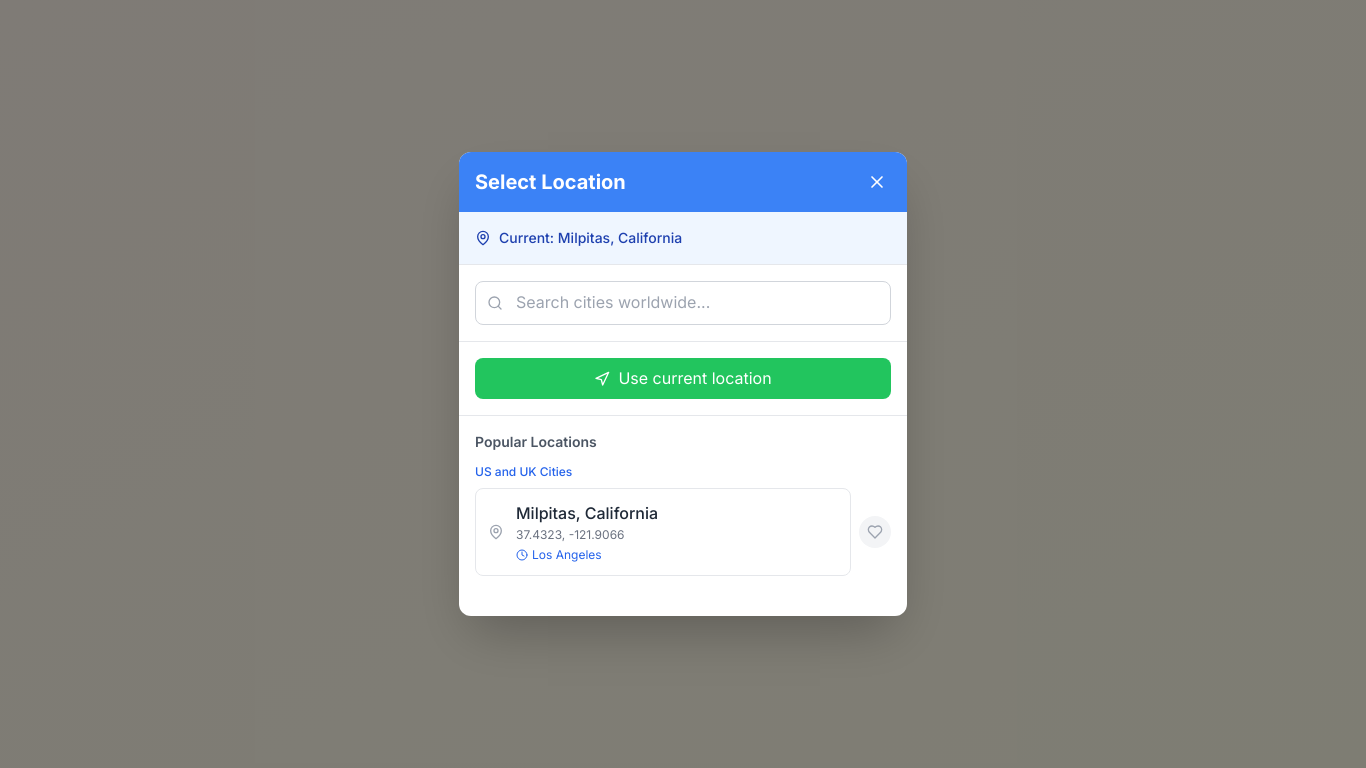
Scenario: LocationSelector › shows empty search results without logging failed searches
In the field with placeholder "Search cities worldwide...": (683, 303) [475,281,891,325], type "Paris"
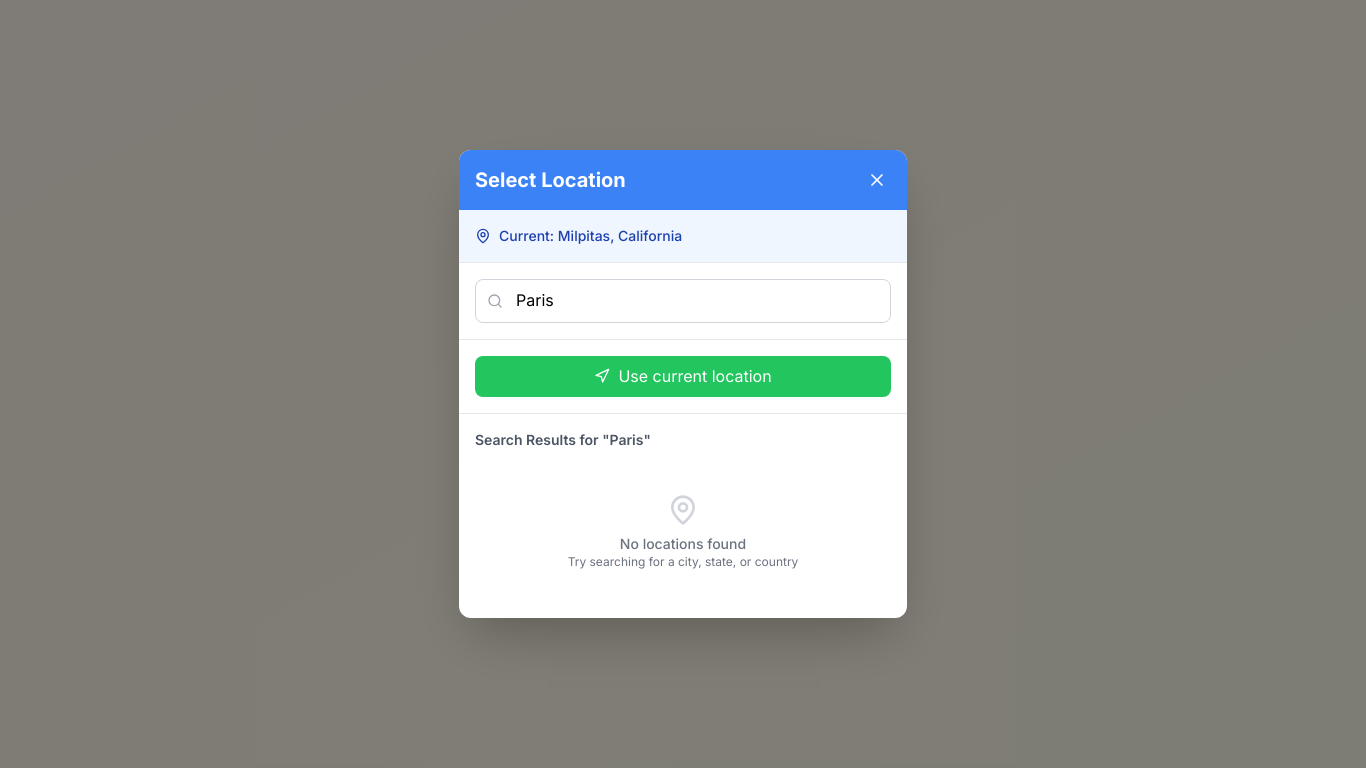
Now the text "No locations found" is shown, box [620,535,746,552]
